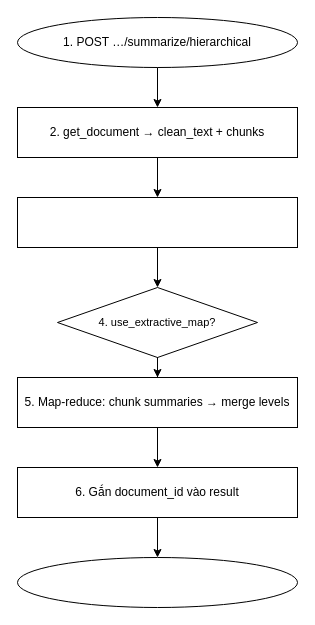
Image size: 315x625. Some labels were removed from this diagram. The box of each missing label's shape, as (x1, y1, x2, y2) in pixels:
3. hierarchical_summarize(text, chunks, model_key): (16, 196, 298, 248)
7. Phản hồi HTTP 200 hierarchical summary tree: (16, 556, 298, 608)
